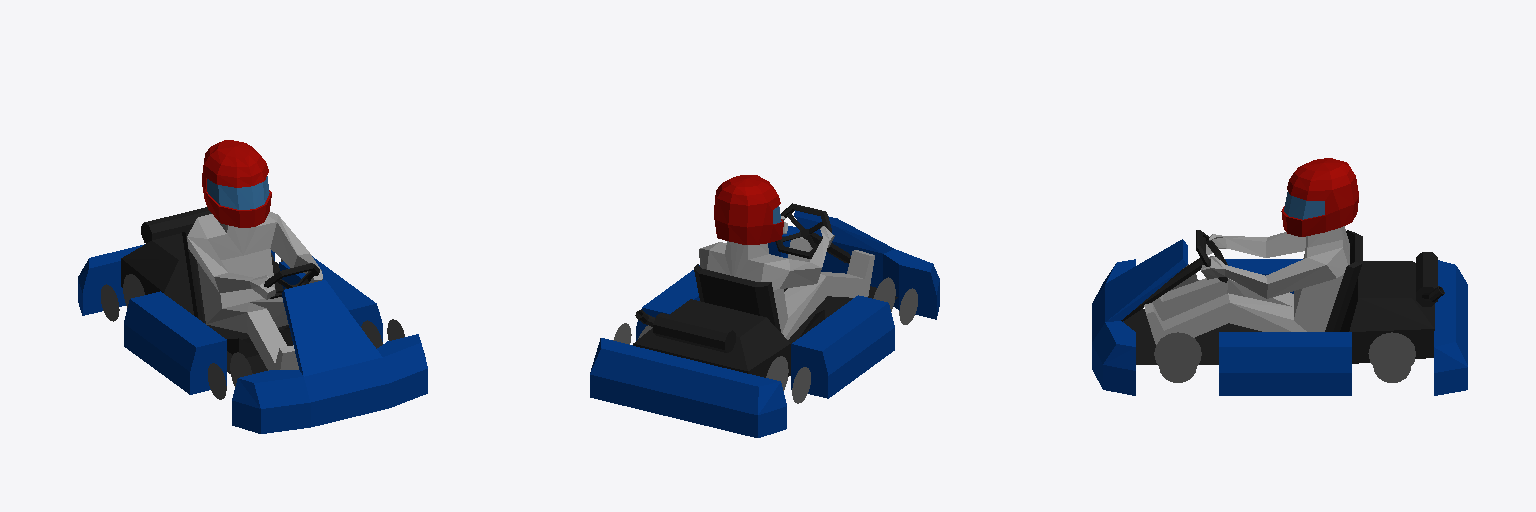
File: Cart.obj
3 views of the same model, side by side, from view 1: azimuth 30°, elevation 25°; view 2: azimuth 150°, elevation 25°; view 3: azimuth 270°, elevation 25° (orthographic).
Parts seen in each view (by area): view 1: car-kart-blue_Cube.877_carmaterial_blue, car-kart-blue_Cube.877_white, car-kart-blue_Cube.877_metal.black, car-kart-blue_Cube.877_carmaterial_red, car-kart-blue_Cube.877_metal, car-kart-blue_Cube.877_windows; view 2: car-kart-blue_Cube.877_carmaterial_blue, car-kart-blue_Cube.877_metal.black, car-kart-blue_Cube.877_white, car-kart-blue_Cube.877_carmaterial_red, car-kart-blue_Cube.877_metal; view 3: car-kart-blue_Cube.877_carmaterial_blue, car-kart-blue_Cube.877_white, car-kart-blue_Cube.877_metal.black, car-kart-blue_Cube.877_carmaterial_red, car-kart-blue_Cube.877_metal, car-kart-blue_Cube.877_windows.
Boxes of the visible parts, box(x1,y1,x2,y2) form: car-kart-blue_Cube.877_carmaterial_blue: box(78, 244, 427, 433); car-kart-blue_Cube.877_white: box(187, 212, 322, 370); car-kart-blue_Cube.877_metal.black: box(121, 207, 319, 373); car-kart-blue_Cube.877_carmaterial_red: box(202, 140, 271, 227); car-kart-blue_Cube.877_metal: box(101, 253, 404, 399); car-kart-blue_Cube.877_windows: box(207, 176, 269, 209); car-kart-blue_Cube.877_carmaterial_blue: box(590, 210, 939, 437); car-kart-blue_Cube.877_metal.black: box(633, 203, 897, 377); car-kart-blue_Cube.877_white: box(699, 216, 874, 339); car-kart-blue_Cube.877_carmaterial_red: box(714, 175, 783, 244); car-kart-blue_Cube.877_metal: box(613, 277, 917, 403); car-kart-blue_Cube.877_carmaterial_blue: box(1092, 239, 1467, 395); car-kart-blue_Cube.877_white: box(1144, 226, 1349, 344); car-kart-blue_Cube.877_metal.black: box(1121, 230, 1444, 364); car-kart-blue_Cube.877_carmaterial_red: box(1281, 158, 1358, 236); car-kart-blue_Cube.877_metal: box(1154, 264, 1415, 382); car-kart-blue_Cube.877_windows: box(1284, 192, 1324, 219).
Bounding box in the file's own units: 0.4364 × 0.4027 × 0.7383.